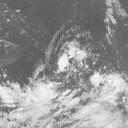cyclone: (38, 25, 97, 94)
